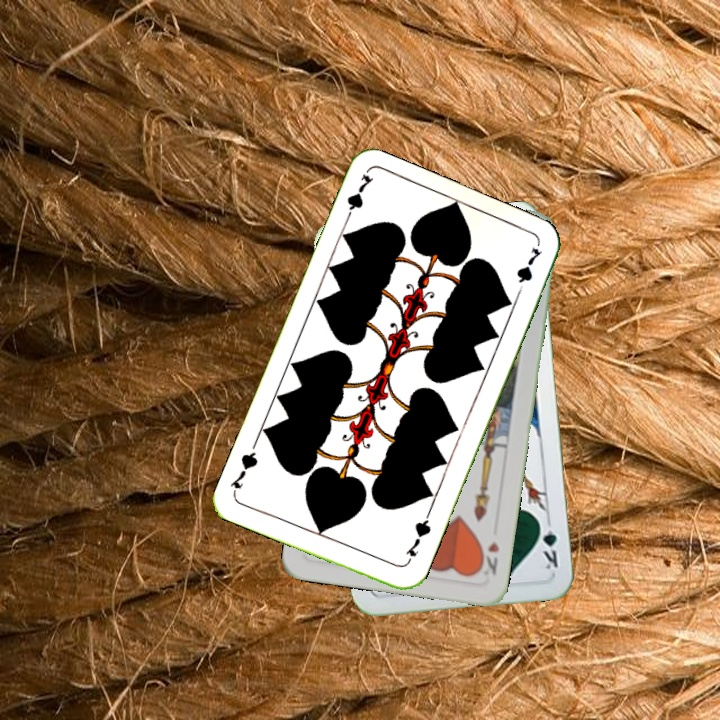G7: (340, 170, 376, 227), (401, 510, 434, 567)
GK: (535, 515, 561, 572)
HK: (474, 537, 502, 578)
